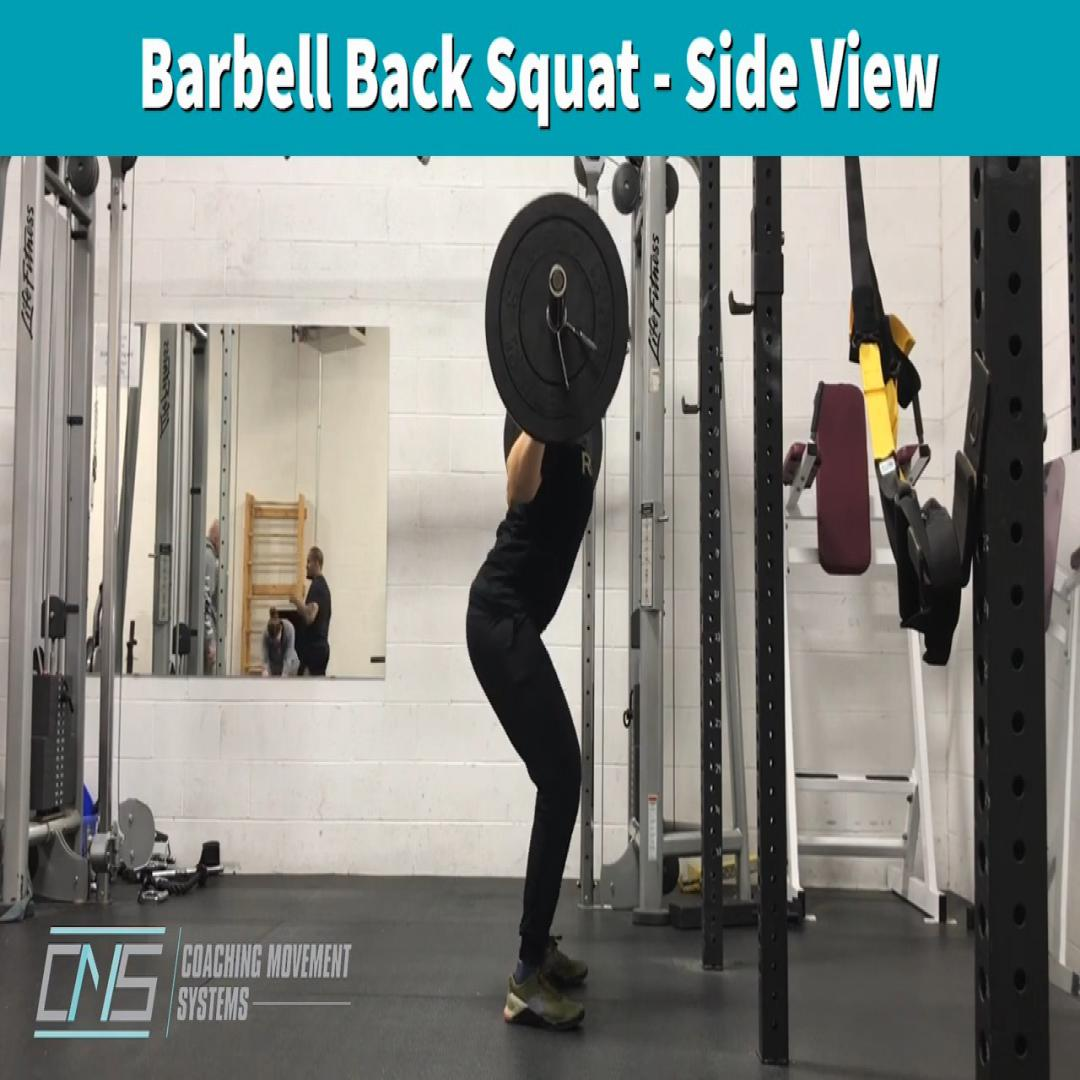Bar: (548, 262, 568, 298)
Barbell: (484, 190, 630, 446)
